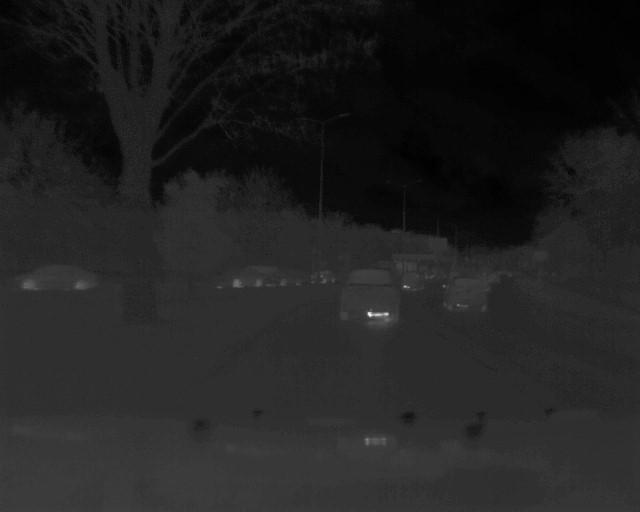car: (341, 268, 407, 326), (15, 267, 98, 291), (441, 277, 490, 313), (221, 267, 267, 290), (274, 268, 306, 286), (310, 267, 336, 286)
